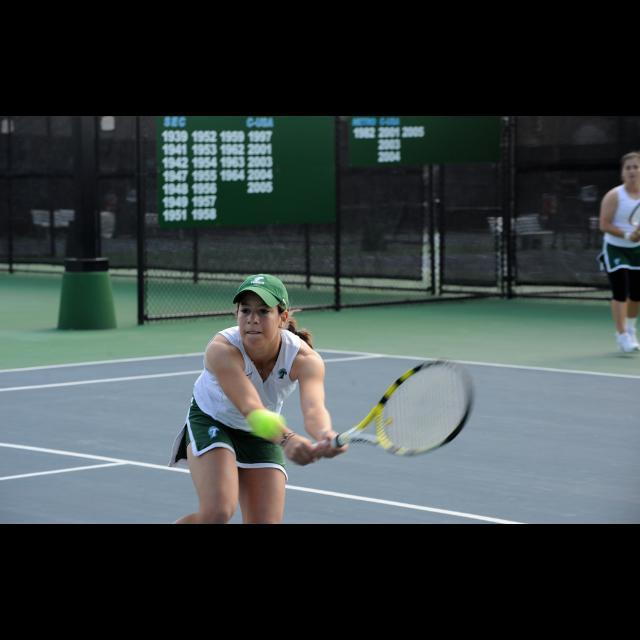tennis-ball: (248, 409, 282, 439)
